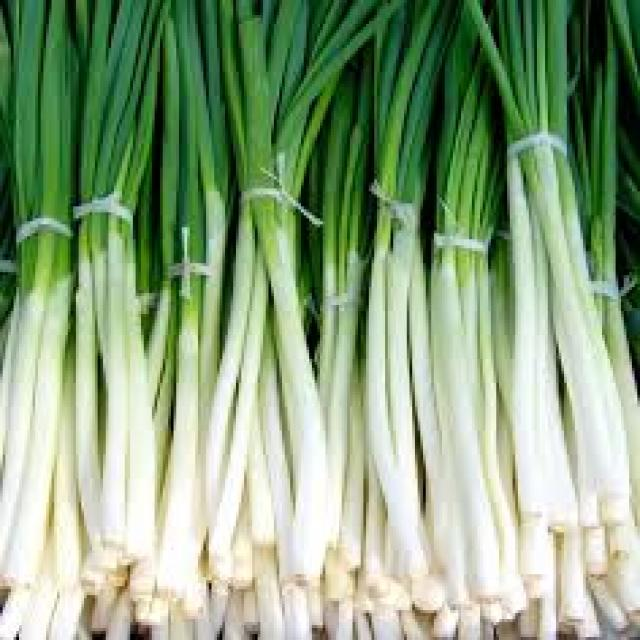spring_onion: (203, 0, 350, 610), (65, 0, 168, 607), (510, 0, 616, 562), (358, 0, 456, 607), (0, 0, 92, 631), (420, 0, 510, 610)
